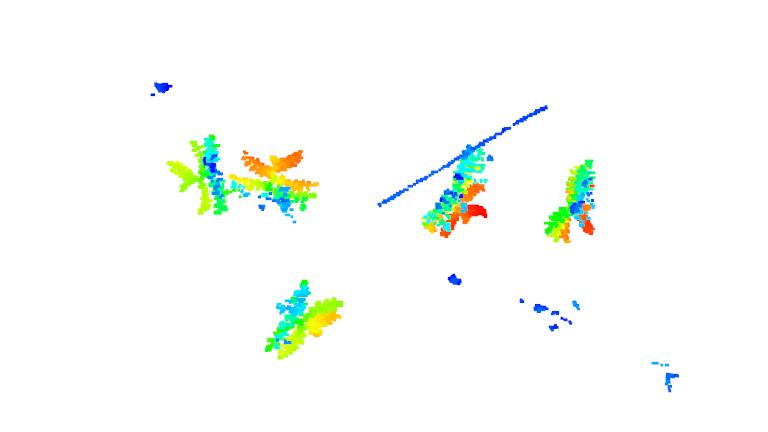chickpea: (421, 143, 495, 239), (261, 277, 345, 358), (229, 148, 318, 219), (164, 135, 233, 216), (542, 158, 600, 244)
